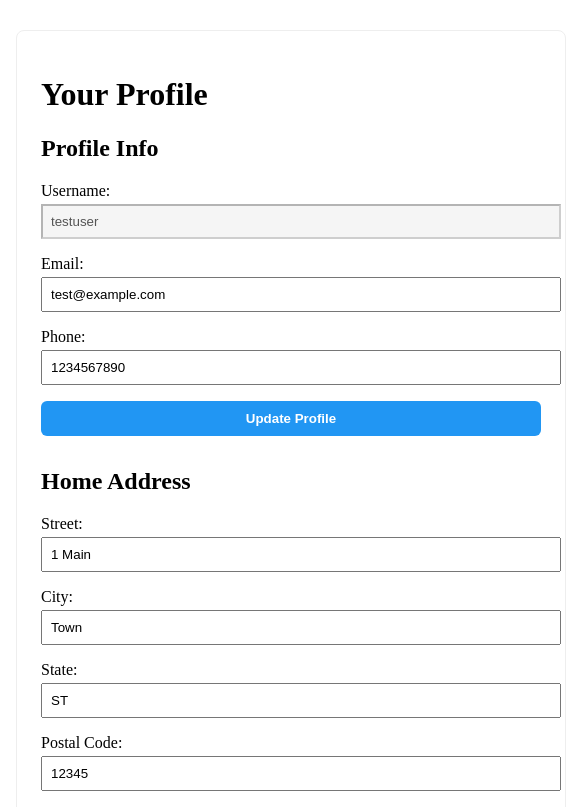
Scenario: Profile › shows error on profile update failure
Click the button "Update Profile" at (291, 418), box [41,401,541,436]
(page scrolled)
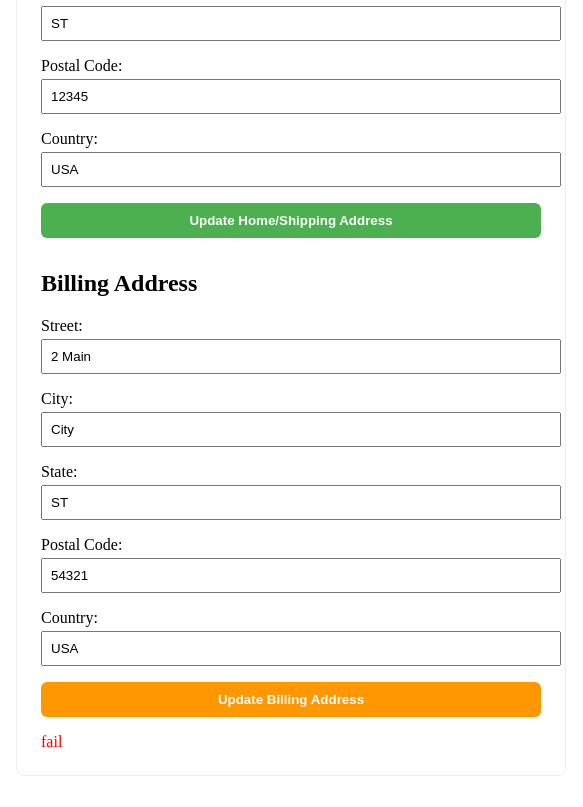
Check: the text "fail" is shown, box [41,733,62,750]
